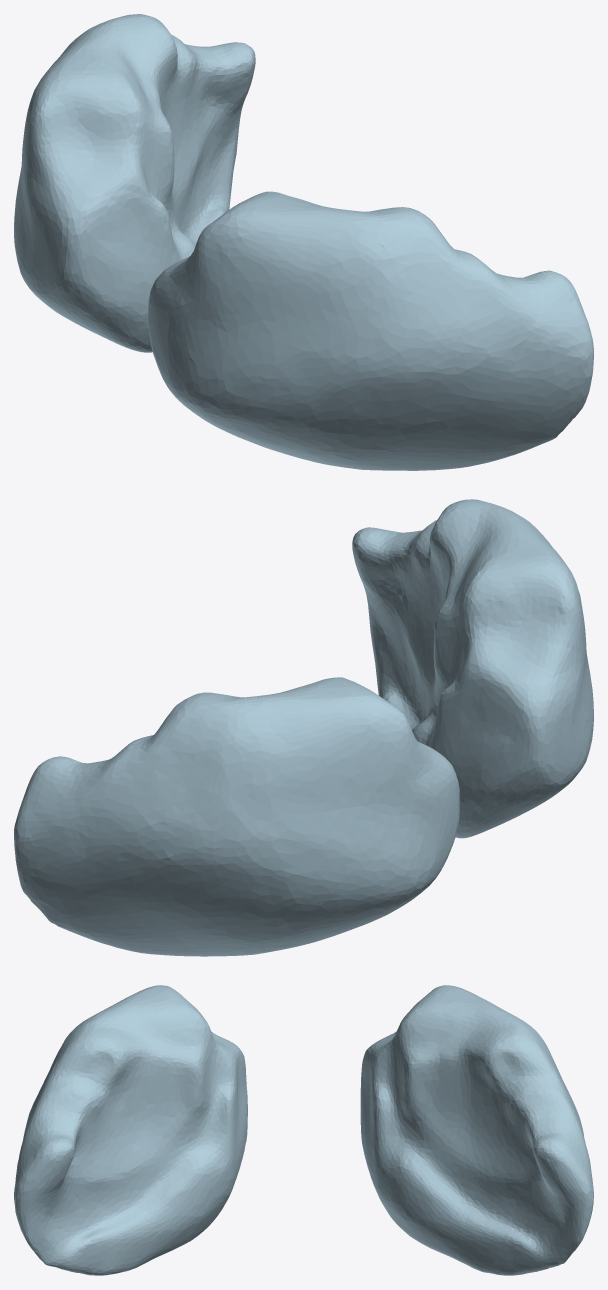
3 renders of one model, top to bottom at view 1: azimuth 30°, elevation 25°; view 2: azimuth 150°, elevation 25°; view 3: azimuth 270°, elevation 25°, orthographic. The views are drawn at different scales.
Parts seen in each view (by area): view 1: 485.obj; view 2: 485.obj; view 3: 485.obj.
Part boxes in pixels (left/top/right/bottom): 485.obj: left=14, top=14, right=593, bottom=470; 485.obj: left=14, top=499, right=593, bottom=956; 485.obj: left=14, top=985, right=593, bottom=1275.
Bounding box in the file's own units: 3894 × 3373 × 7870.
